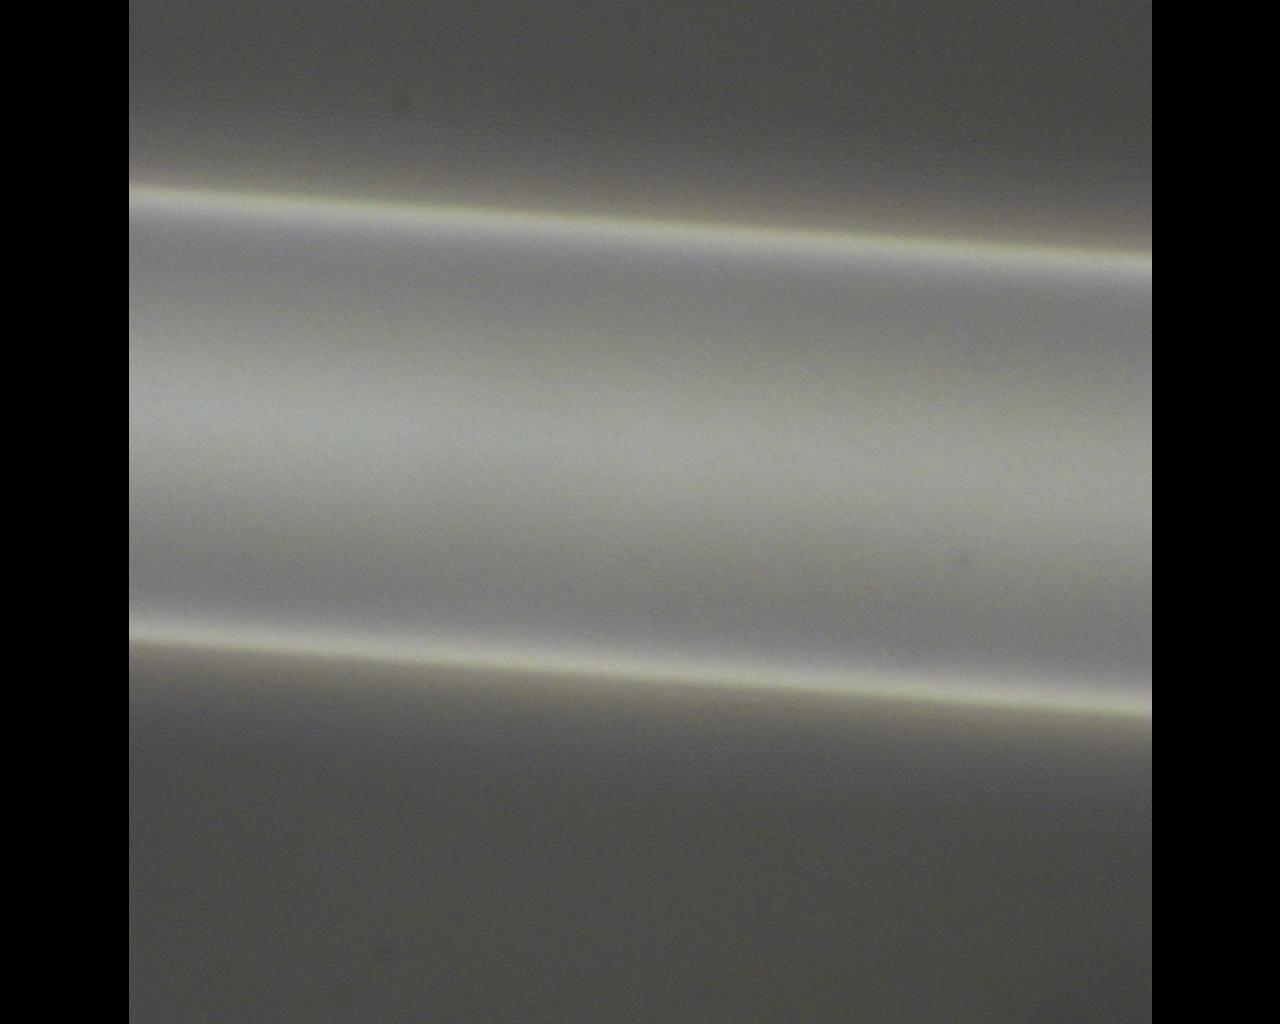fiber: (275, 768, 624, 1024), (820, 0, 875, 768)
